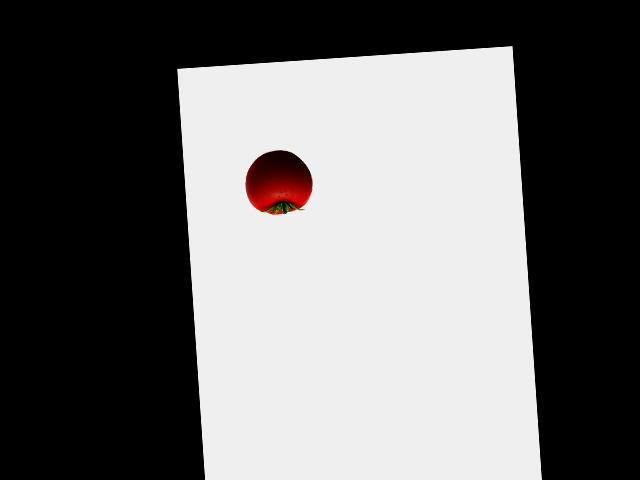tomato: (251, 148, 314, 216)
